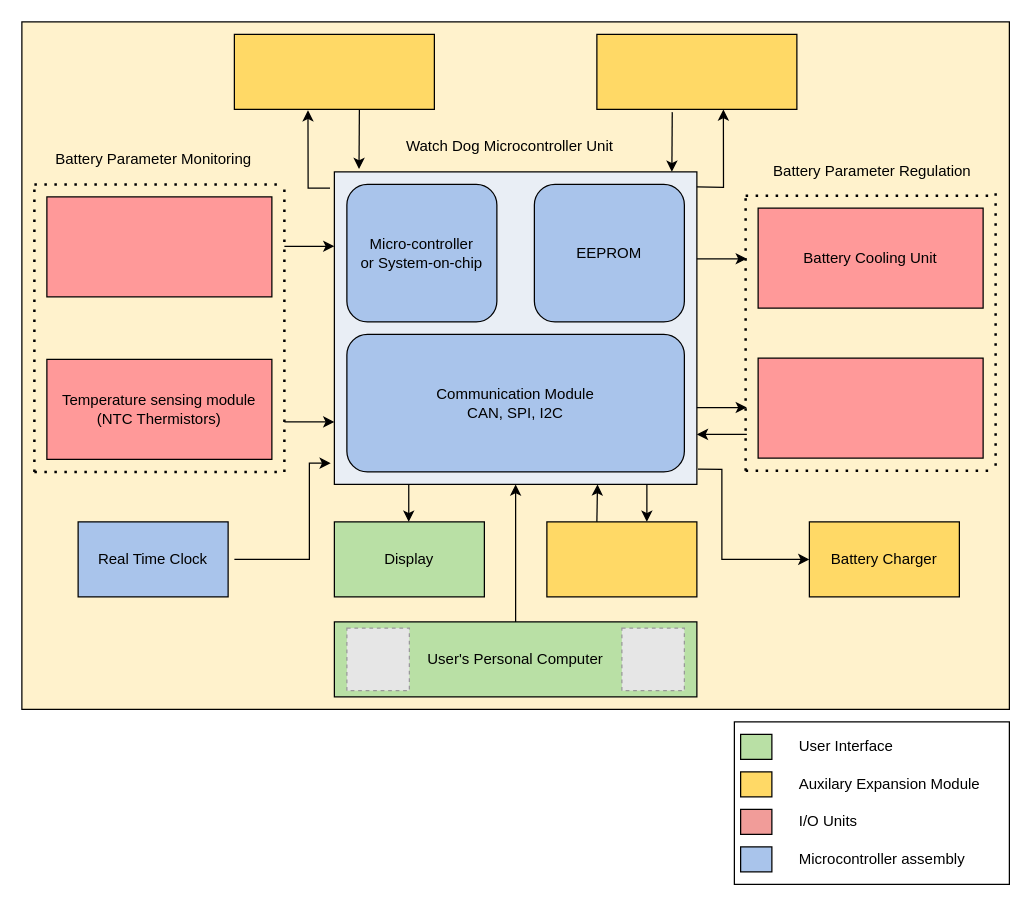
The diagram is 1031 pixels wide and 906 high, and some of its shapes have lost their labels. Grey dashed boxes stand in for pictures. The shapes that lost their labels are listed below. From the top down, each one's centre as x and y in pixels, then its label:
point 333,71: CAN Expansion Module
point 696,71: Battery Contactor Relay (Safety Relay)
point 159,246: Voltage Sensing module
point 870,407: Precharge Circuitry
point 621,559: Bluetooth Module
